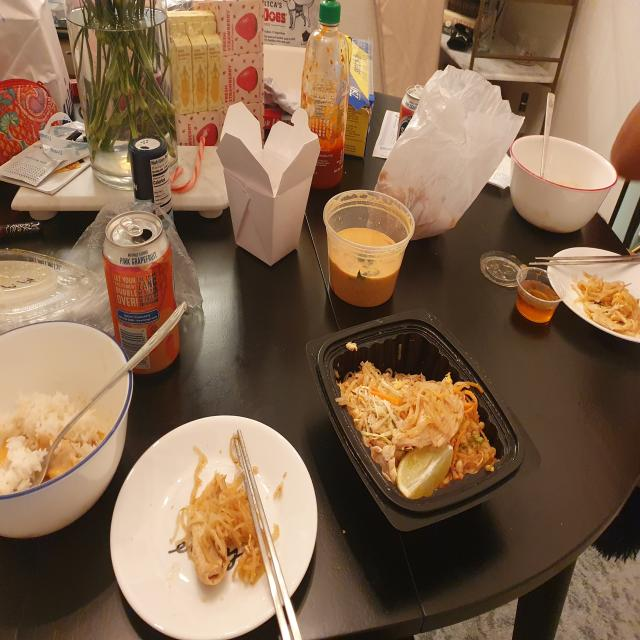Bowl: (304, 327, 519, 504), (0, 320, 134, 540), (508, 134, 618, 234)
Cup: (322, 188, 416, 308)
Plate: (109, 414, 318, 640), (546, 246, 640, 343)
